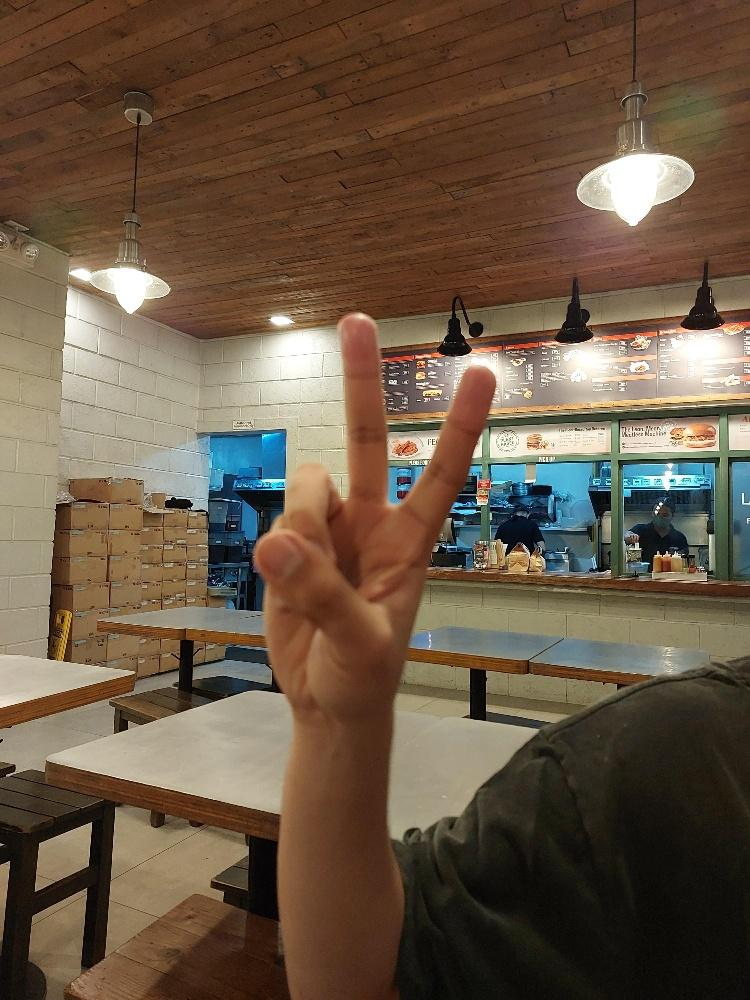v: (251, 308, 498, 721)
